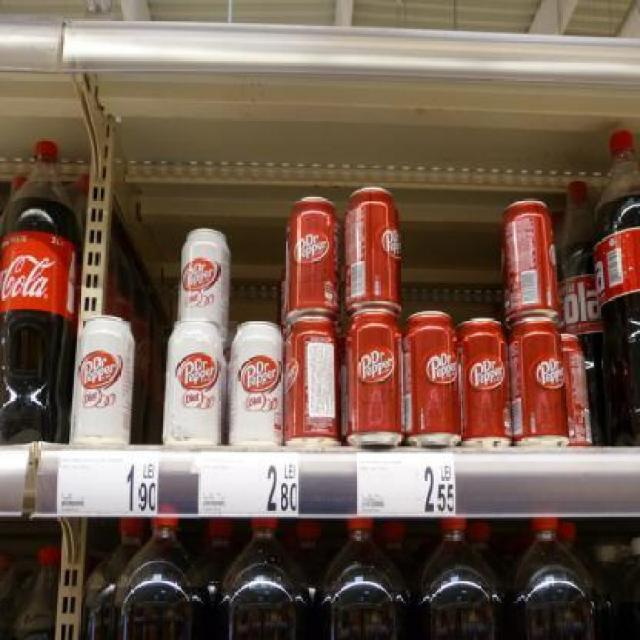Drinks: (1, 139, 65, 445), (71, 314, 135, 450), (344, 312, 402, 446), (403, 310, 460, 446), (512, 319, 572, 445), (163, 322, 223, 446), (459, 318, 513, 449), (229, 320, 286, 444), (343, 186, 400, 310), (285, 195, 341, 317), (286, 319, 340, 443), (502, 199, 559, 316), (178, 227, 232, 321)
